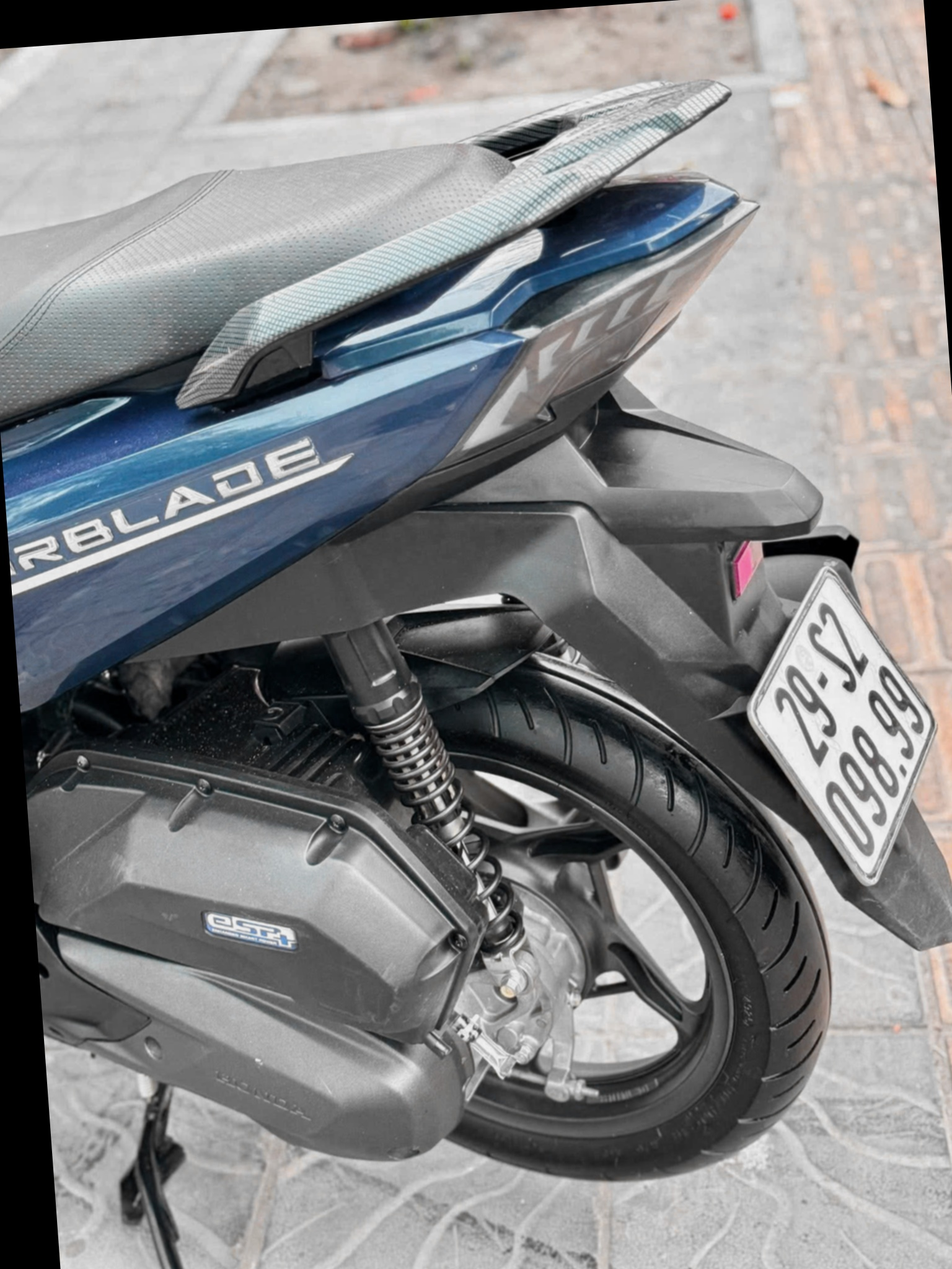Bien-so: (725, 501, 939, 851)
